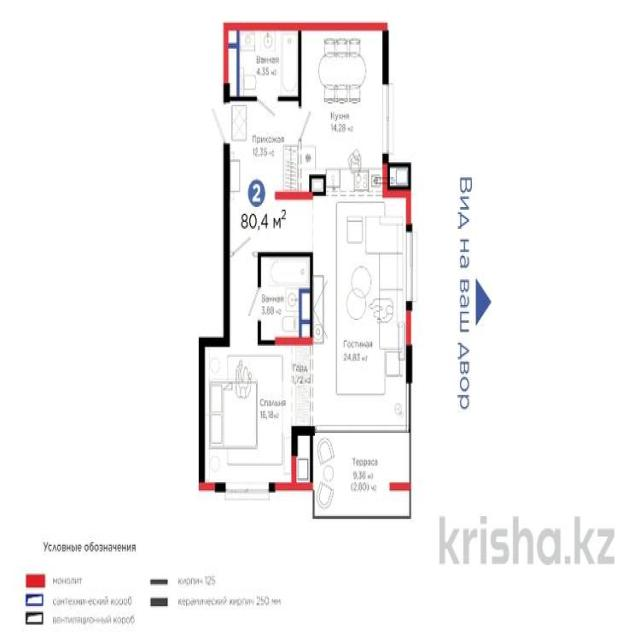balcony: (314, 428, 411, 515)
bathroom: (226, 25, 301, 100), (259, 254, 313, 344)
hallway: (229, 94, 300, 196), (227, 194, 314, 254)
kitchen: (300, 28, 387, 204)
living_room: (314, 192, 409, 434), (201, 342, 291, 495)
other: (292, 340, 314, 430)
